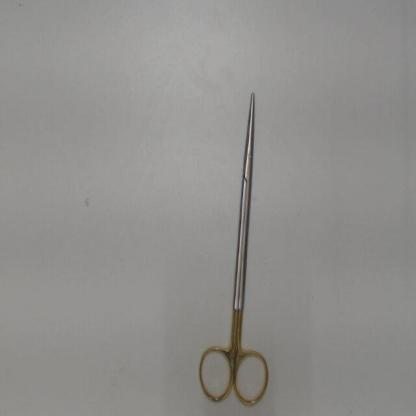7 Metzenbaum Scissors: (192, 89, 274, 411)
